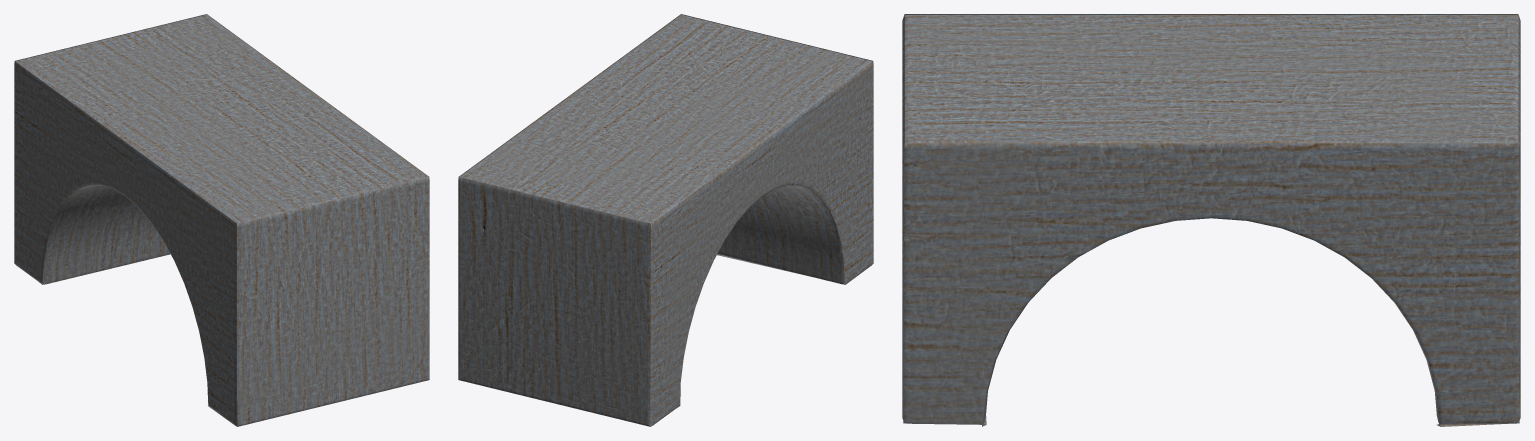
Rendered from Small Arch UVed OBJ.obj.
3 views of the same model, side by side, from view 1: azimuth 30°, elevation 25°; view 2: azimuth 150°, elevation 25°; view 3: azimuth 270°, elevation 25° (orthographic). The views are drawn at different scales.
Parts seen in each view (by area): view 1: pCube11; view 2: pCube11; view 3: pCube11.
Boxes of the visible parts, x1,y1,x2,y2 form: pCube11: [14, 14, 429, 426]; pCube11: [458, 14, 873, 426]; pCube11: [902, 14, 1520, 426].
Size of the model in its own units: 94.87 by 94.76 by 188.
Materials: 1 (1 with a texture image).
